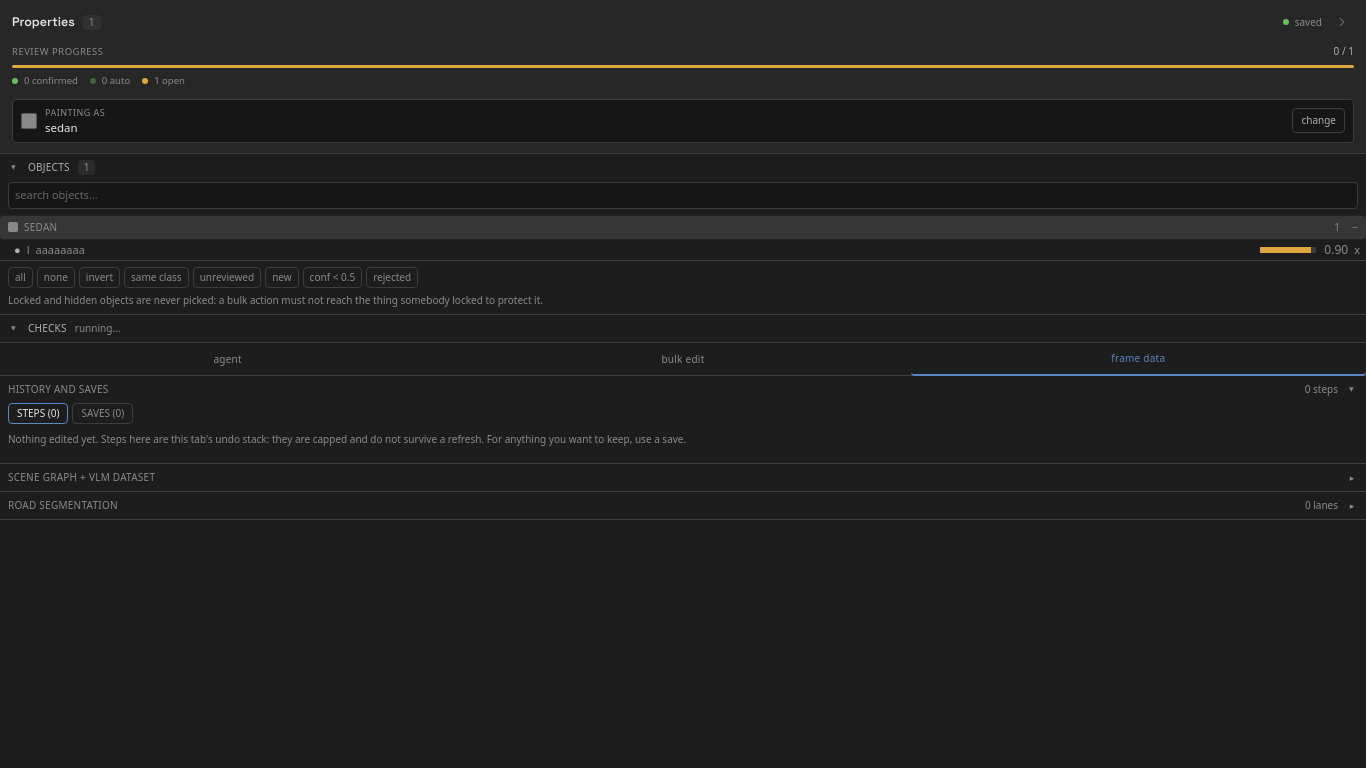
Test case: the header › opens the class list on demand
This screenshot has width=1366, height=768.
Click the button "change" at (1319, 121), box top-left (1292, 108), bottom-right (1345, 133)
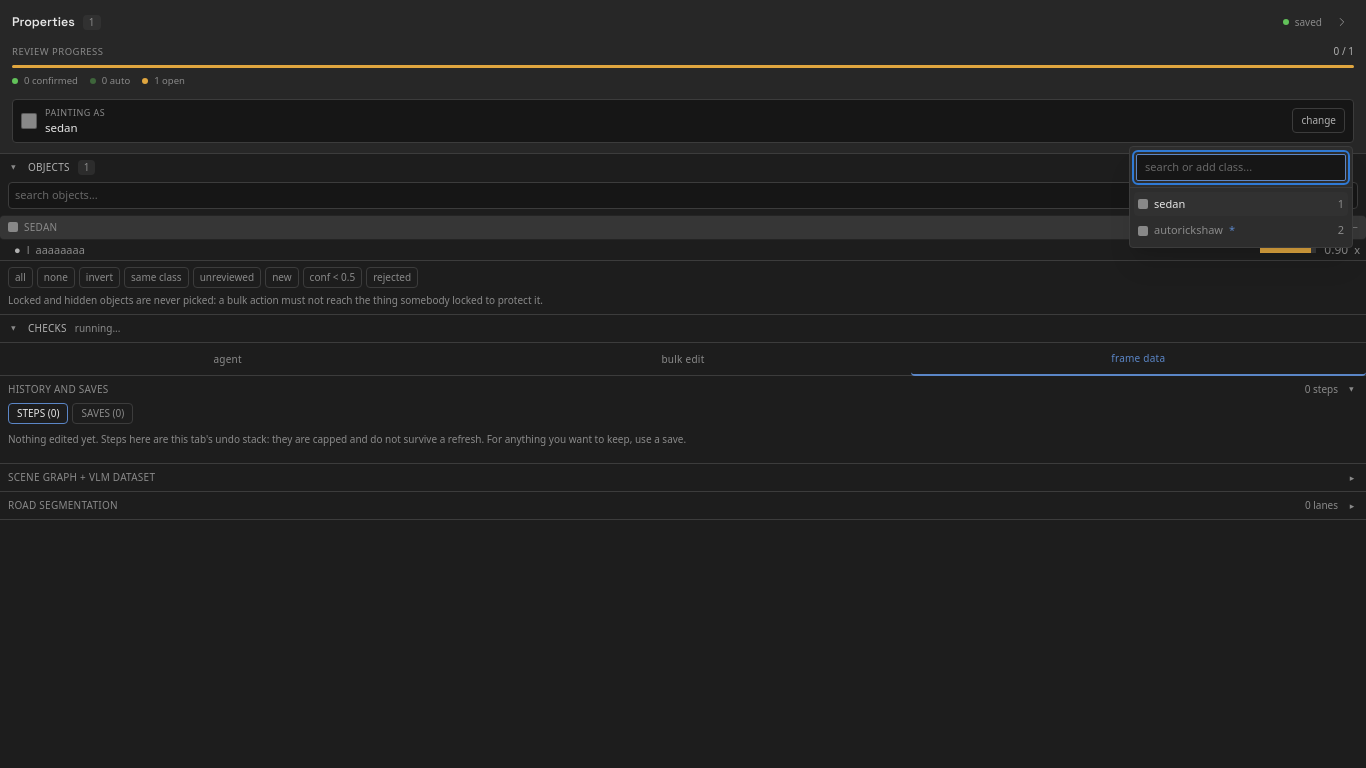
Expected: the field labelled "search or add class" is shown, top-left (1136, 154), bottom-right (1346, 181)
